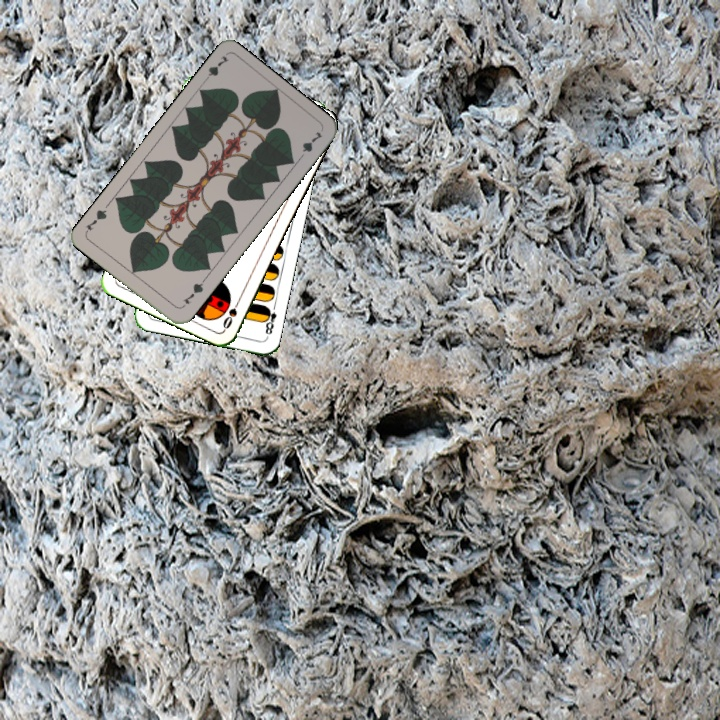E8: (259, 300, 279, 337)
G7: (198, 51, 232, 86), (178, 276, 207, 307)
SO: (219, 293, 243, 332)
